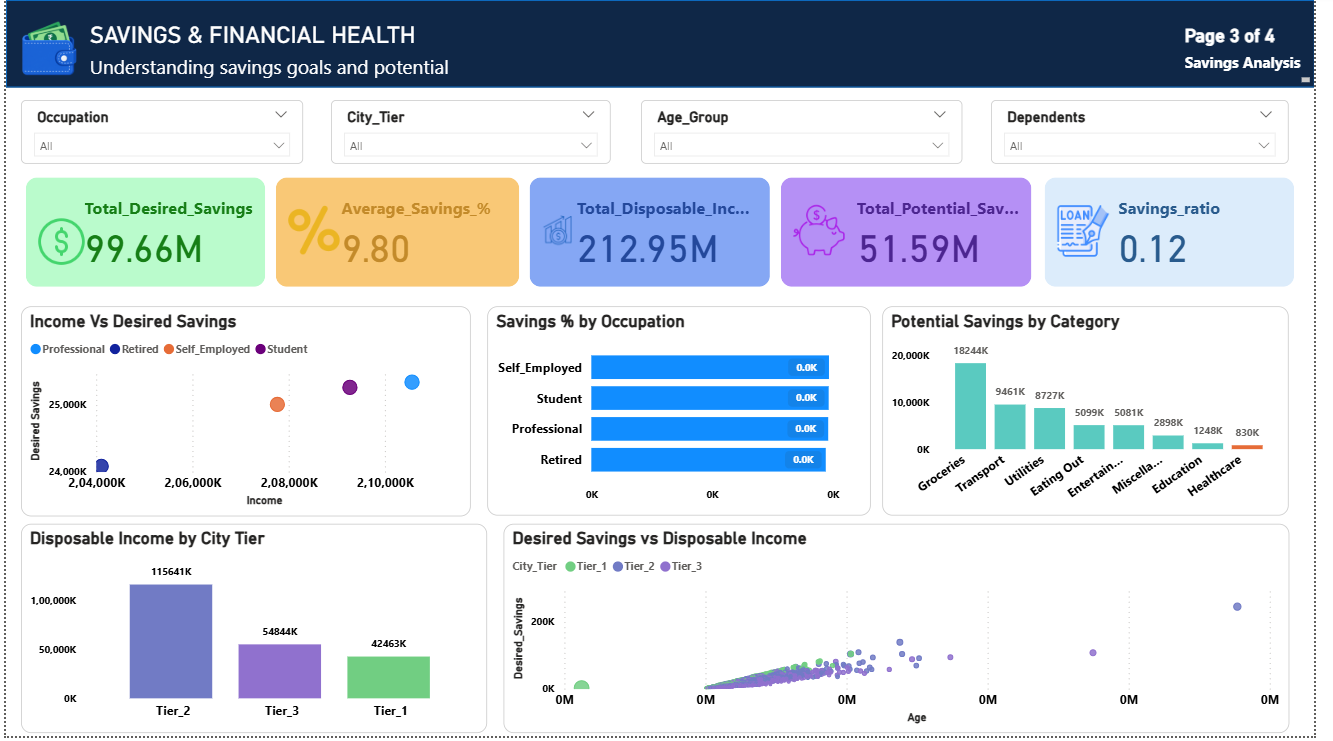

This screenshot's page, from the dashboard's own definition file:
{"tool":"powerbi","page":{"name":"SAVINGS ANALYSIS","canvas":[1280,720],"ordinal":2},"visuals":[{"type":"shape","box":[0,0,1280.3,85.6],"z":0},{"type":"image","box":[0,9.8,80.7,75.8],"z":1000},{"type":"textbox","title":"SAVINGS & FINANCIAL HEALTH","box":[77,20.8,480.6,62.4],"z":2000},{"type":"slicer","fields":{"Values":["Personal_Finance.Occupation"]},"box":[14.7,97.8,276.4,62.4],"z":3000},{"type":"slicer","fields":{"Values":["Personal_Finance.City_Tier"]},"box":[317.9,97.8,273.9,62.4],"z":4000},{"type":"slicer","fields":{"Values":["Personal_Finance.Age"]},"box":[621.2,97.8,314.3,62.4],"z":5000},{"type":"slicer","fields":{"Values":["Personal_Finance.Dependents"]},"box":[963.6,97.8,291,62.4],"z":6000},{"type":"cardVisual","title":"vc","fields":{"Data":["Personal_Finance.Average_Savings_%"]},"box":[259.2,168.8,248.2,117.4],"z":7000},{"type":"cardVisual","title":"vc","fields":{"Data":["Personal_Finance.Total_Disposable_Income"]},"box":[507.5,168.8,245.8,117.4],"z":8000},{"type":"cardVisual","title":"vc","fields":{"Data":["Personal_Finance.Total_Potential_Savings"]},"box":[753.3,168.8,255.6,117.4],"z":9000},{"type":"cardVisual","fields":{"Data":["Personal_Finance.Total_Desired_Savings"]},"box":[14.7,168.8,244.6,117.4],"z":10000},{"type":"cardVisual","title":"vc","fields":{"Data":["Personal_Finance.Savings_ratio"]},"box":[1011.3,168.8,254.3,117.4],"z":11000},{"type":"clusteredColumnChart","title":"Potential Savings by Category","fields":{"Category":["Potential Savings Category.Potential Savings Category"],"Y":["Potential Savings Category.Potential Savings Amount"]},"box":[857.5,300,397.5,205],"z":12000},{"type":"columnChart","title":"Disposable Income by City Tier","fields":{"Category":["Personal_Finance.City_Tier"],"Y":["Personal_Finance.Total_Disposable_Income"]},"box":[15,512.5,456.2,205],"z":13000},{"type":"scatterChart","title":"Desired Savings vs Disposable Income","fields":{"Size":["Personal_Finance.Total_Income"],"X":["Sum(Personal_Finance.Disposable_Income)"],"Y":["Personal_Finance.Desired_Savings"],"Series":["Personal_Finance.City_Tier"]},"box":[486.2,512.5,768.8,205],"z":14000},{"type":"scatterChart","title":" Income Vs Desired Savings ","fields":{"X":["Sum(Personal_Finance.Income)"],"Y":["Sum(Personal_Finance.Desired_Savings)"],"Series":["Personal_Finance.Occupation"],"Size":["Sum(Personal_Finance.Desired_Savings)"]},"box":[14.7,299.6,440.2,205.4],"z":15000},{"type":"barChart","title":"Savings % by Occupation","fields":{"Category":["Personal_Finance.Occupation"],"Y":["Personal_Finance.Average_Savings_%"]},"box":[471.2,300,375,205],"z":16000},{"type":"textbox","title":"Page 3 of 4","box":[1148.2,24.5,132.1,61.1],"z":16001},{"type":"actionButton","box":[1148.2,20.8,100.3,40.4],"z":16002}]}

Visuals, with their boxes in screenshot pixels (x1, y1, x2, y2), scaled from the page's 1280x720 canvas onto the 1333x741 screenshot:
shape: x1=0, y1=0, x2=1332, y2=88
image: x1=0, y1=10, x2=84, y2=88
"SAVINGS & FINANCIAL HEALTH" textbox: x1=80, y1=21, x2=581, y2=86
slicer - Personal_Finance.Occupation: x1=15, y1=101, x2=303, y2=165
slicer - Personal_Finance.City_Tier: x1=331, y1=101, x2=616, y2=165
slicer - Personal_Finance.Age: x1=647, y1=101, x2=974, y2=165
slicer - Personal_Finance.Dependents: x1=1003, y1=101, x2=1307, y2=165
"vc" cardVisual: x1=270, y1=174, x2=528, y2=295
"vc" cardVisual: x1=529, y1=174, x2=784, y2=295
"vc" cardVisual: x1=784, y1=174, x2=1051, y2=295
cardVisual - Personal_Finance.Total_Desired_Savings: x1=15, y1=174, x2=270, y2=295
"vc" cardVisual: x1=1053, y1=174, x2=1318, y2=295
"Potential Savings by Category" clusteredColumnChart: x1=893, y1=309, x2=1307, y2=520
"Disposable Income by City Tier" columnChart: x1=16, y1=527, x2=491, y2=738
"Desired Savings vs Disposable Income" scatterChart: x1=506, y1=527, x2=1307, y2=738
" Income Vs Desired Savings " scatterChart: x1=15, y1=308, x2=474, y2=520
"Savings % by Occupation" barChart: x1=491, y1=309, x2=881, y2=520
"Page 3 of 4" textbox: x1=1196, y1=25, x2=1332, y2=88
actionButton: x1=1196, y1=21, x2=1300, y2=63
